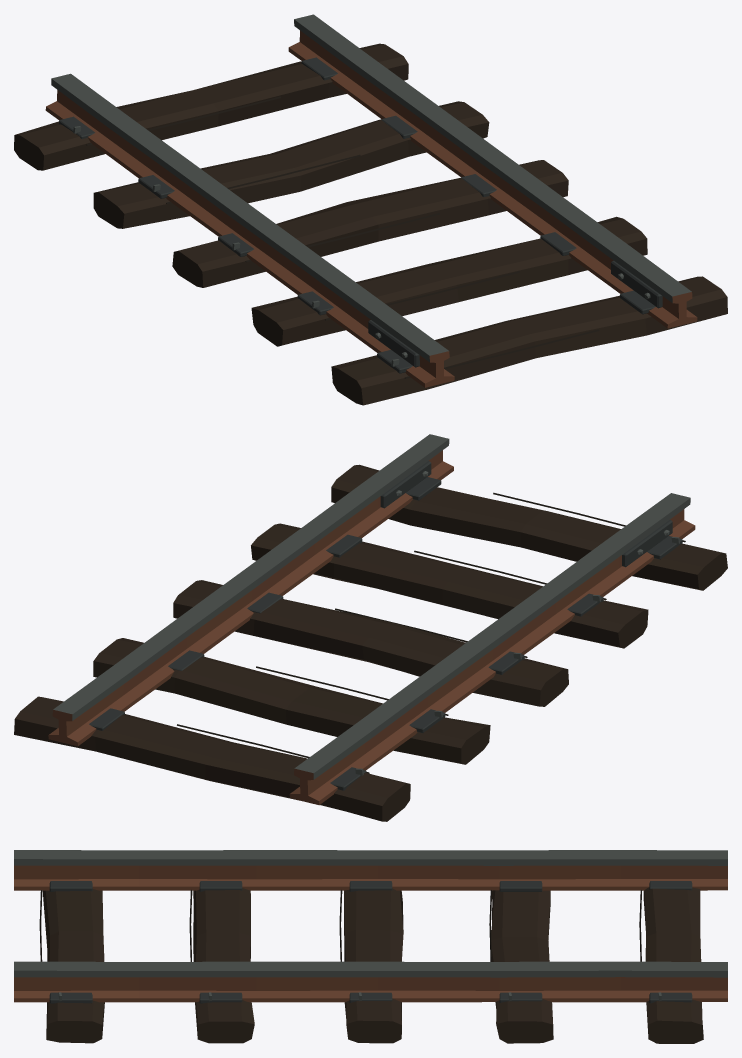
File: rails.glb
3 renders of one model, top to bottom at view 1: azimuth 30°, elevation 25°; view 2: azimuth 150°, elevation 25°; view 3: azimuth 270°, elevation 25°, orthographic. The views are drawn at different scales.
Visible parts, largest first — view 1: Wood, Iron; view 2: Wood, Iron; view 3: Iron, Wood.
Boxes of the visible parts, x1,y1,x2,y2 form: Wood: (14,43,727,405); Iron: (45,14,697,387); Wood: (14,464,727,821); Iron: (48,434,695,805); Iron: (14,850,727,1003); Wood: (39,887,703,1043).
Bounding box in the file's own units: 1.12 × 0.1629 × 2.
